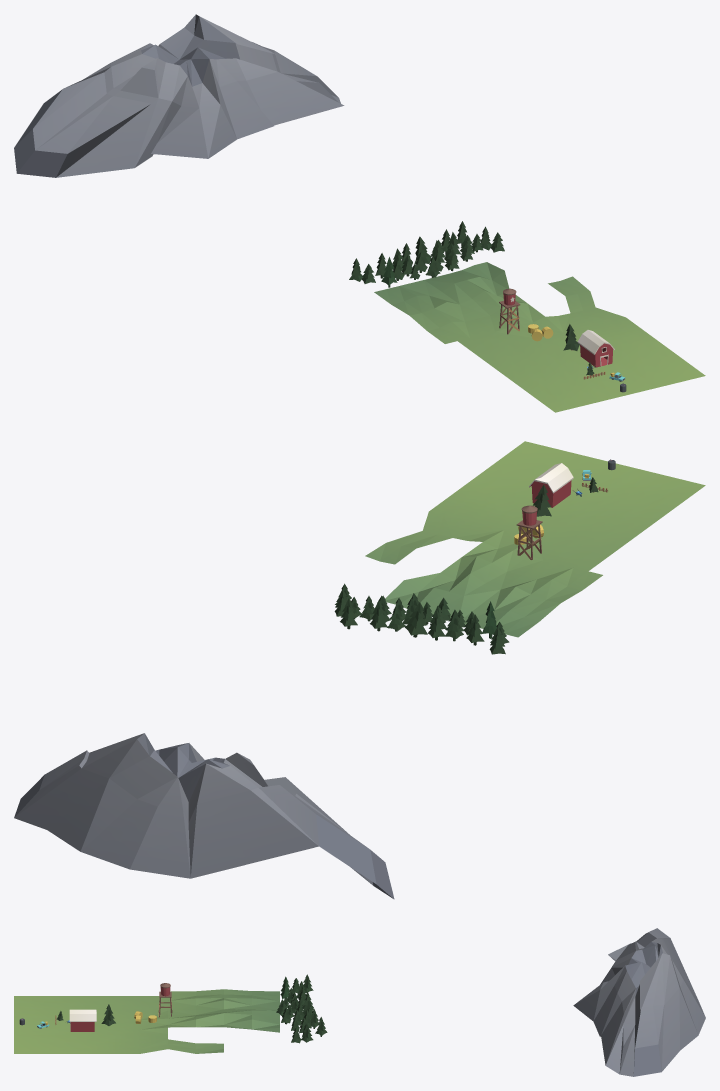
The model's file is Carts.fbx.
3 renders of one model, top to bottom at view 1: azimuth 30°, elevation 25°; view 2: azimuth 150°, elevation 25°; view 3: azimuth 270°, elevation 25°, orthographic. The views are drawn at different scales.
Visible parts, largest first — view 1: Mountain.004, Ground, Forest.004, Bark, Water tower; view 2: Mountain.004, Ground, Forest.004, Bark, Water tower; view 3: Ground, Mountain.004, Forest.004, Bark, Water tower.
Part boxes in pixels (x1,y1,x2,y2): Mountain.004: (14, 14, 344, 177); Ground: (374, 262, 705, 412); Forest.004: (349, 221, 504, 287); Bark: (577, 330, 614, 367); Water tower: (499, 288, 520, 334); Mountain.004: (14, 733, 394, 899); Ground: (365, 441, 705, 637); Forest.004: (334, 583, 509, 654); Bark: (529, 463, 573, 507); Water tower: (516, 505, 542, 559); Ground: (14, 989, 279, 1053); Mountain.004: (573, 928, 705, 1076); Forest.004: (276, 974, 327, 1043); Bark: (69, 1009, 96, 1031); Water tower: (158, 983, 172, 1017).
Bounding box in the file's own units: 43.46 × 13.61 × 104.
